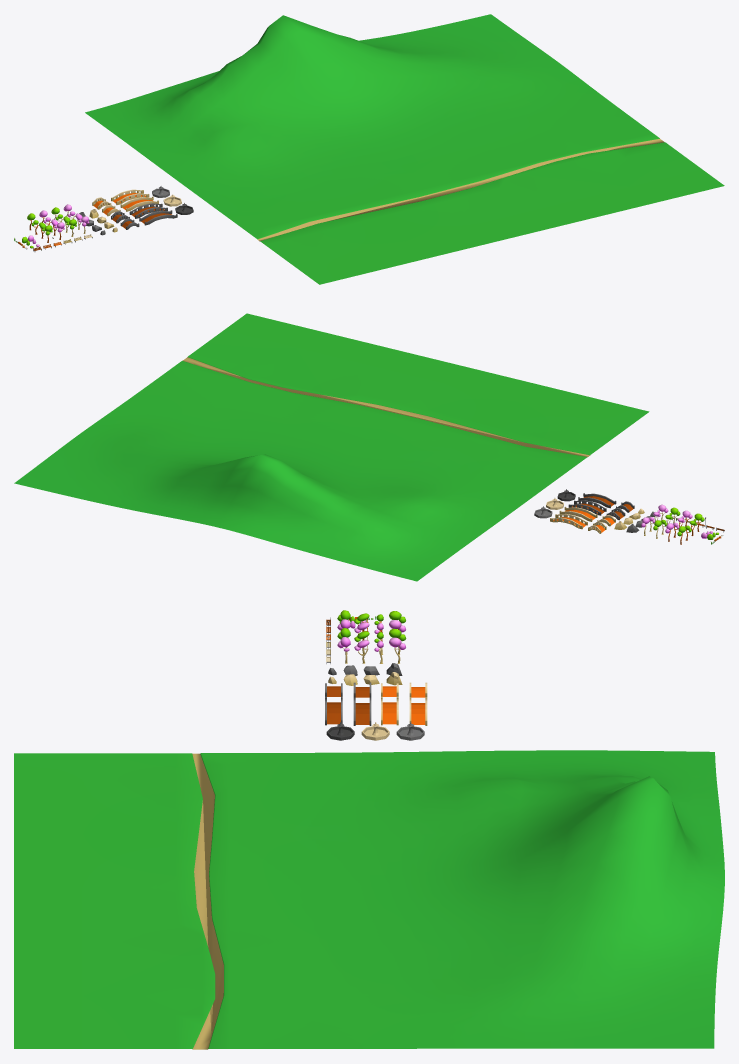
Rendered from Stylyzed Nature Pack.fbx.
The picture shows the model from 3 angles, top to bottom: view 1: azimuth 30°, elevation 25°; view 2: azimuth 150°, elevation 25°; view 3: azimuth 270°, elevation 25°; orthographic projection. The views are drawn at different scales.
Parts seen in each view (by area): view 1: Plane.001; view 2: Plane.001; view 3: Plane.001.
Part boxes in pixels (x1,y1,x2,y2): Plane.001: [85, 14, 724, 284]; Plane.001: [14, 313, 649, 581]; Plane.001: [14, 750, 724, 1049].
Bounding box in the file's own units: 29150 × 3303 × 20317.
